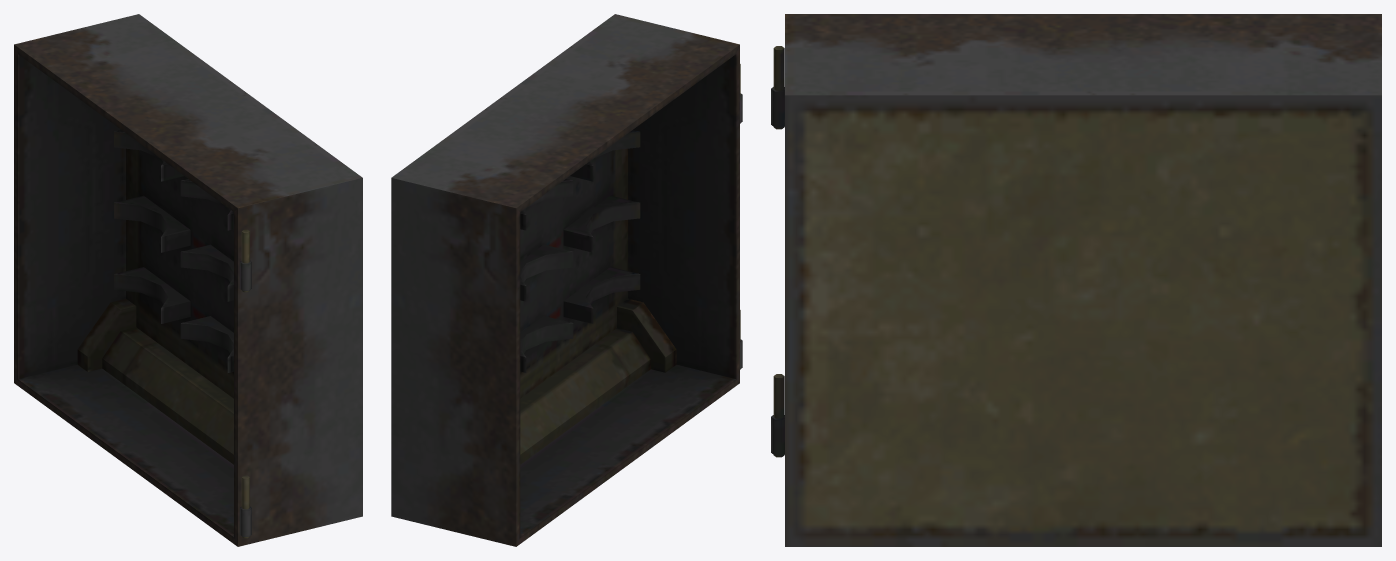
Rendered from cabinet_electrical_empty_small_base.DAE.
The picture shows the model from 3 angles, left to right: view 1: azimuth 30°, elevation 25°; view 2: azimuth 150°, elevation 25°; view 3: azimuth 270°, elevation 25°; orthographic projection. The views are drawn at different scales.
Visible parts, largest first — view 1: cabinet_electrical_empty_small_base; view 2: cabinet_electrical_empty_small_base; view 3: cabinet_electrical_empty_small_base.
Boxes of the visible parts, left/top/right/bottom form: cabinet_electrical_empty_small_base: left=14, top=14, right=362, bottom=546; cabinet_electrical_empty_small_base: left=391, top=14, right=742, bottom=546; cabinet_electrical_empty_small_base: left=771, top=14, right=1381, bottom=546.
Bounding box in the file's own units: 25.82 × 81.97 × 66.86.
